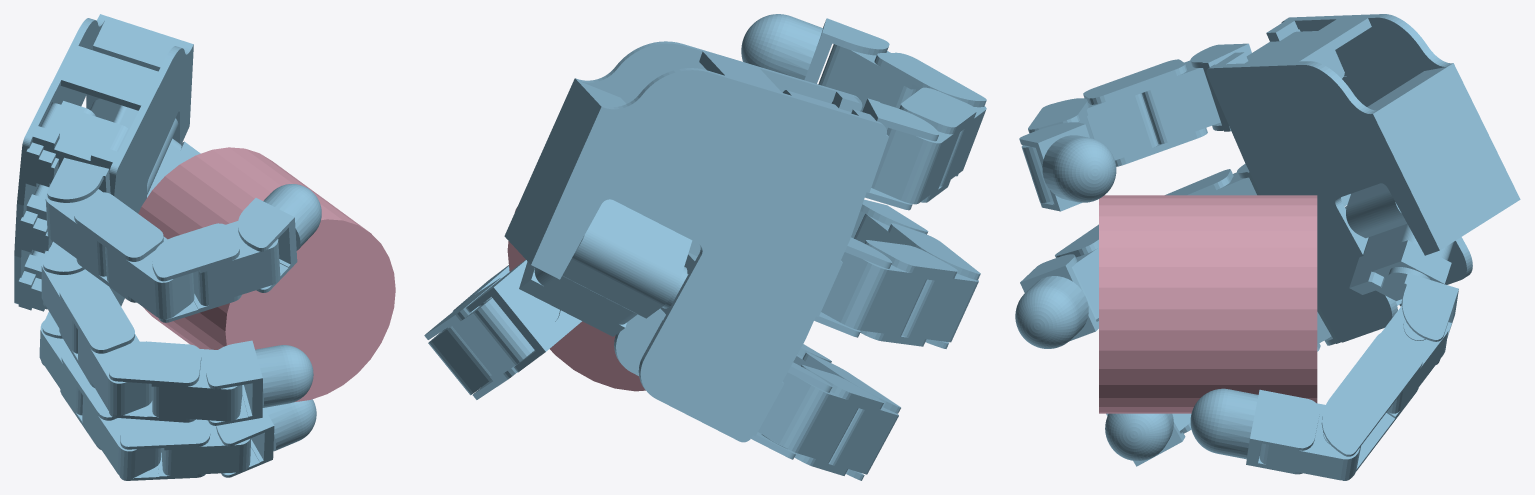
The picture shows the model from 3 angles, left to right: view 1: azimuth 30°, elevation 25°; view 2: azimuth 150°, elevation 25°; view 3: azimuth 270°, elevation 25°; orthographic projection. The views are drawn at different scales.
Parts seen in each view (by area): view 1: world; view 2: world; view 3: world.
Part boxes in pixels (bbox=[...]): world: bbox=[14, 14, 395, 480]; world: bbox=[424, 14, 986, 480]; world: bbox=[1015, 14, 1520, 480].
Bounding box in the file's own units: 0.1637 × 0.1708 × 0.1849.
